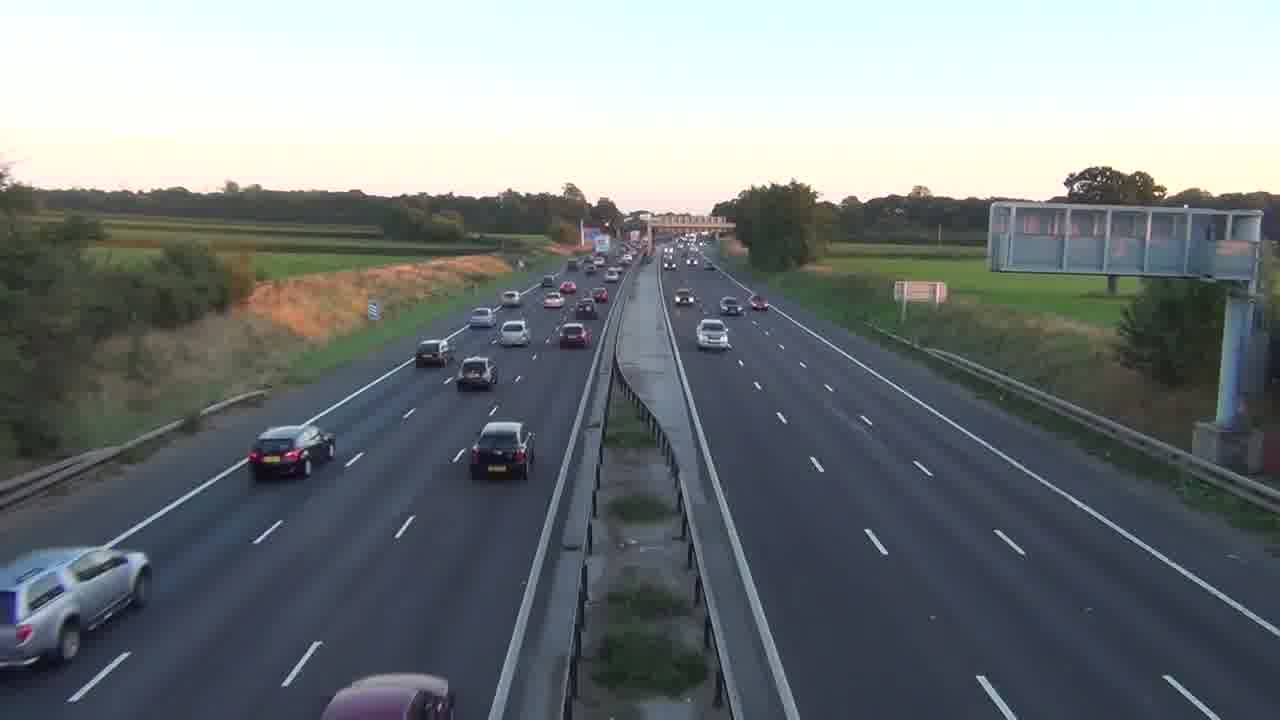car: (0, 545, 152, 670), (246, 424, 336, 480), (469, 421, 535, 480), (696, 318, 731, 352), (496, 318, 531, 347), (558, 321, 591, 349), (719, 295, 745, 316), (749, 294, 769, 312), (559, 280, 577, 295)
truck: (0, 545, 152, 670)
